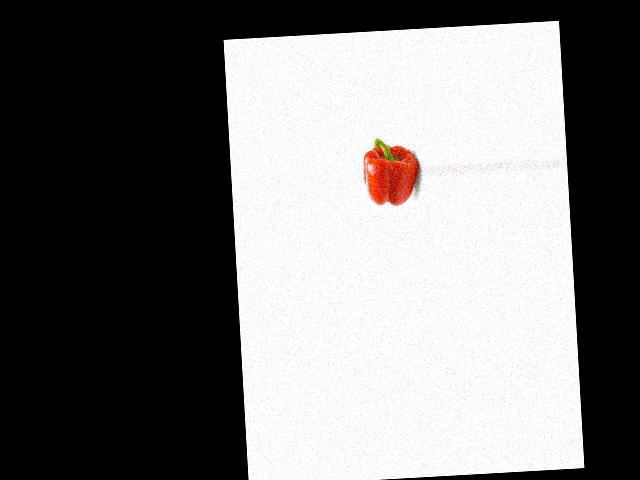bell_pepper: (361, 132, 419, 213)
